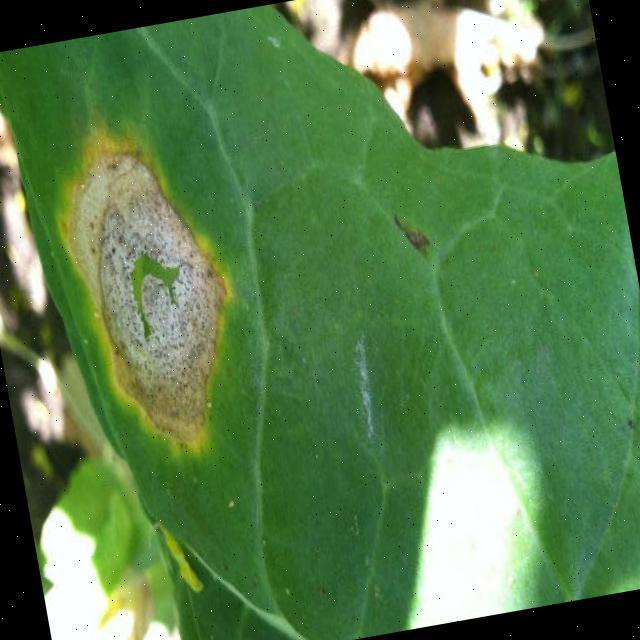Bacterial: (36, 68, 333, 487)
